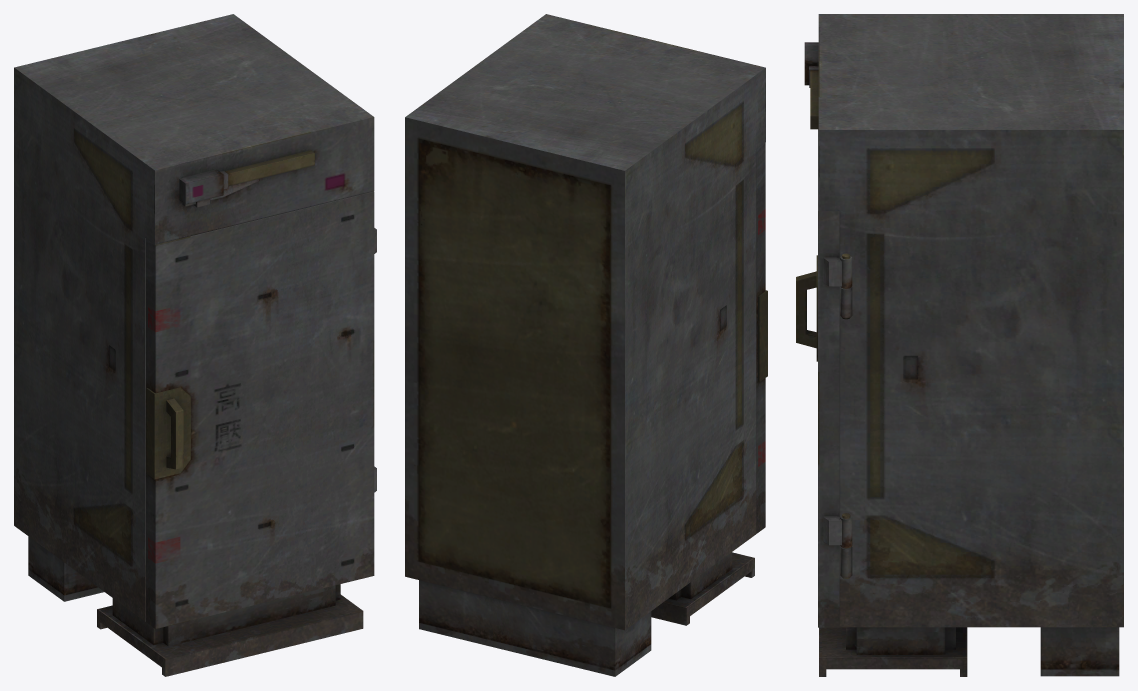
The model's file is cabinet_electricity.dae.
3 renders of one model, left to right at view 1: azimuth 30°, elevation 25°; view 2: azimuth 150°, elevation 25°; view 3: azimuth 270°, elevation 25°, orthographic. The views are drawn at different scales.
Visible parts, largest first — view 1: base, door; view 2: base, door; view 3: base, door.
Part boxes in pixels (bbox=[...]): base: bbox=[14, 14, 374, 676]; door: bbox=[145, 191, 376, 629]; base: bbox=[405, 14, 765, 676]; door: bbox=[756, 143, 767, 533]; base: bbox=[804, 14, 1123, 676]; door: bbox=[796, 129, 852, 627].
Size of the model in its own units: 0.944 by 2 by 1.08.
